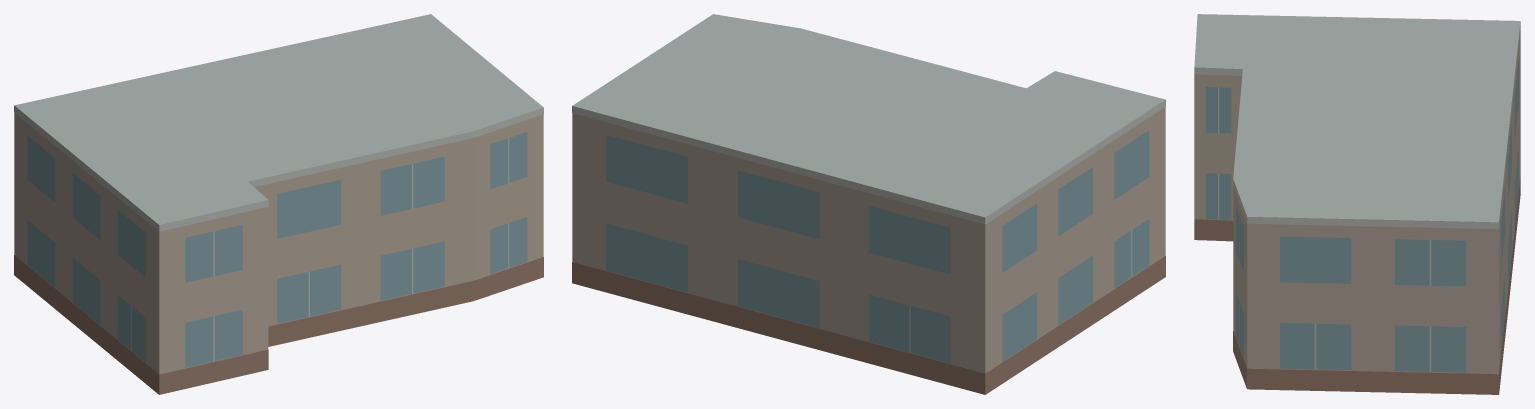
Rendered from survey-upis-32625224.glb.
3 renders of one model, left to right at view 1: azimuth 30°, elevation 25°; view 2: azimuth 150°, elevation 25°; view 3: azimuth 270°, elevation 25°, orthographic. The views are drawn at different scales.
Visible parts, largest first — view 1: survey-upis-32625224.tmp; view 2: survey-upis-32625224.tmp; view 3: survey-upis-32625224.tmp.
Boxes of the visible parts, <box> form: survey-upis-32625224.tmp: <box>14,14,543,394</box>; survey-upis-32625224.tmp: <box>572,14,1165,394</box>; survey-upis-32625224.tmp: <box>1194,14,1520,394</box>.
Bounding box in the file's own units: 15.8 × 6.1 × 10.46.
